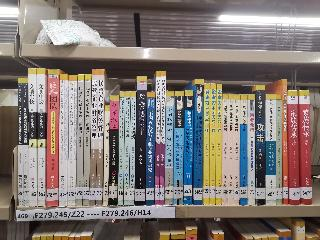book-spine: (43, 68, 60, 206), (285, 91, 302, 205), (297, 90, 313, 203), (25, 68, 38, 206), (65, 74, 78, 206), (136, 76, 148, 206), (35, 68, 46, 207), (193, 78, 205, 205), (107, 95, 120, 206), (145, 91, 157, 204), (58, 74, 68, 207), (255, 85, 266, 204), (116, 91, 127, 206), (173, 91, 184, 205), (182, 92, 193, 205), (246, 94, 257, 205), (265, 94, 276, 205), (15, 78, 24, 206), (121, 92, 131, 206), (165, 91, 175, 205), (226, 93, 236, 205), (89, 69, 97, 206), (96, 70, 104, 206), (154, 71, 162, 207), (159, 71, 167, 204), (83, 75, 91, 207), (240, 94, 249, 205), (210, 82, 218, 205), (215, 83, 223, 205), (77, 74, 84, 207), (233, 94, 241, 205), (282, 79, 289, 204), (203, 82, 210, 205), (129, 91, 136, 207), (103, 105, 111, 206), (23, 76, 29, 207), (222, 93, 228, 205), (276, 94, 282, 205)
